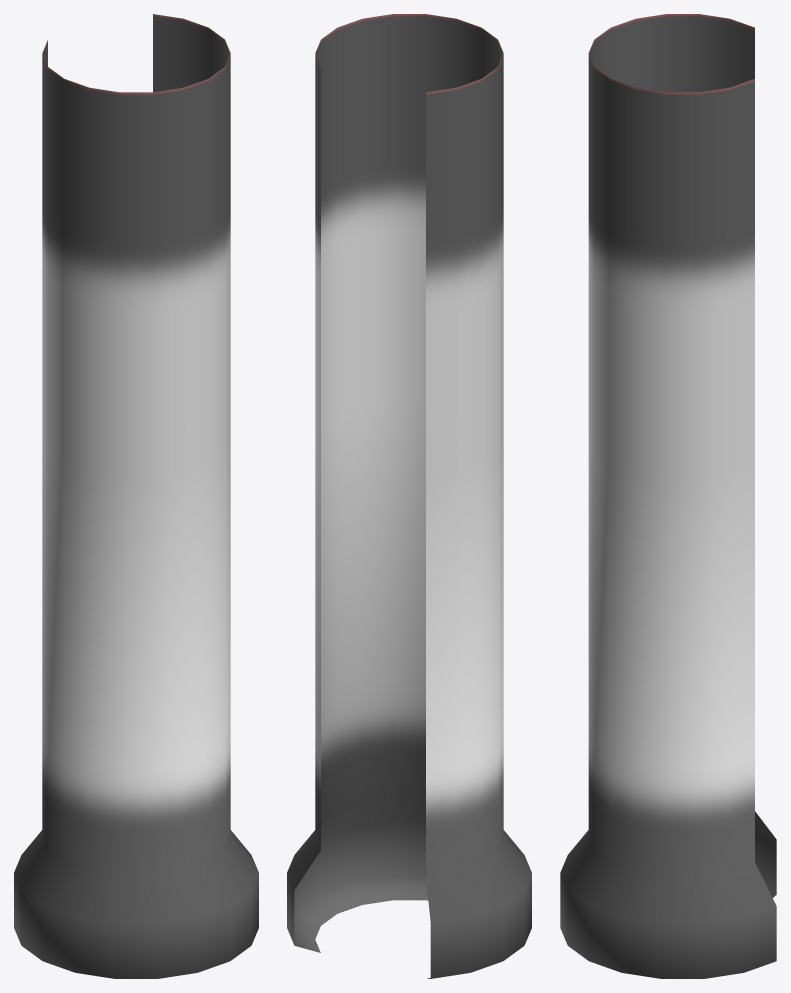
File: FerretLeggs.fbx
3 views of the same model, side by side, from view 1: azimuth 30°, elevation 25°; view 2: azimuth 150°, elevation 25°; view 3: azimuth 270°, elevation 25° (orthographic).
Parts seen in each view (by area): view 1: FeretLeg; view 2: FeretLeg; view 3: FeretLeg.
Boxes of the visible parts, <box> form: FeretLeg: <box>14,14,258,978</box>; FeretLeg: <box>287,14,531,978</box>; FeretLeg: <box>560,14,776,978</box>.
Size of the model in its own units: 2.76 by 11.19 by 2.48.
1 material, 1 textured.
